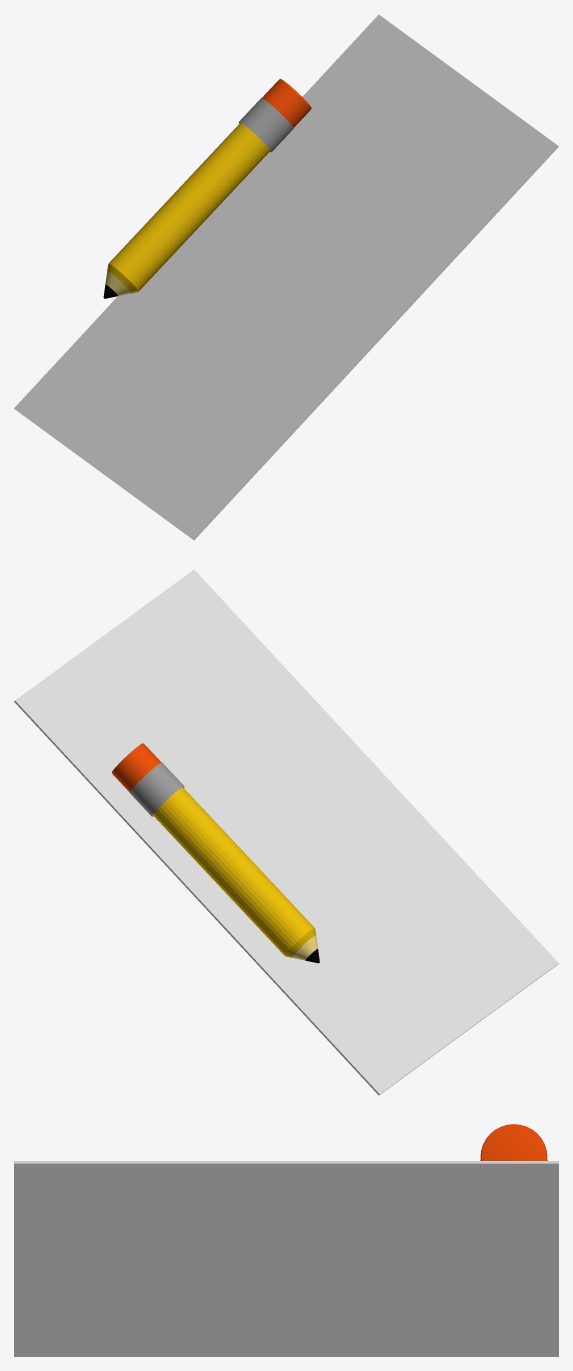
The model's file is Papel y lapiz.fbx.
The picture shows the model from 3 angles, top to bottom: view 1: azimuth 30°, elevation 25°; view 2: azimuth 150°, elevation 25°; view 3: azimuth 270°, elevation 25°; orthographic projection. The views are drawn at different scales.
Visible parts, largest first — view 1: Cilindro.005, Cilindro.001, Cilindro.003, Cilindro; view 2: Cilindro.005, Cilindro.001, Cilindro.003, Cilindro; view 3: Cilindro.005, Cilindro.
Part boxes in pixels (x1,y1,x2,y2): Cilindro.005: [14, 14, 558, 540]; Cilindro.001: [107, 122, 270, 293]; Cilindro.003: [239, 98, 293, 152]; Cilindro: [262, 79, 311, 127]; Cilindro.005: [14, 569, 558, 1095]; Cilindro.001: [153, 787, 315, 957]; Cilindro.003: [129, 762, 184, 816]; Cilindro: [111, 743, 161, 792]; Cilindro.005: [14, 1161, 558, 1356]; Cilindro: [480, 1124, 547, 1160].
Size of the model in its own units: 323 by 259 by 274.
